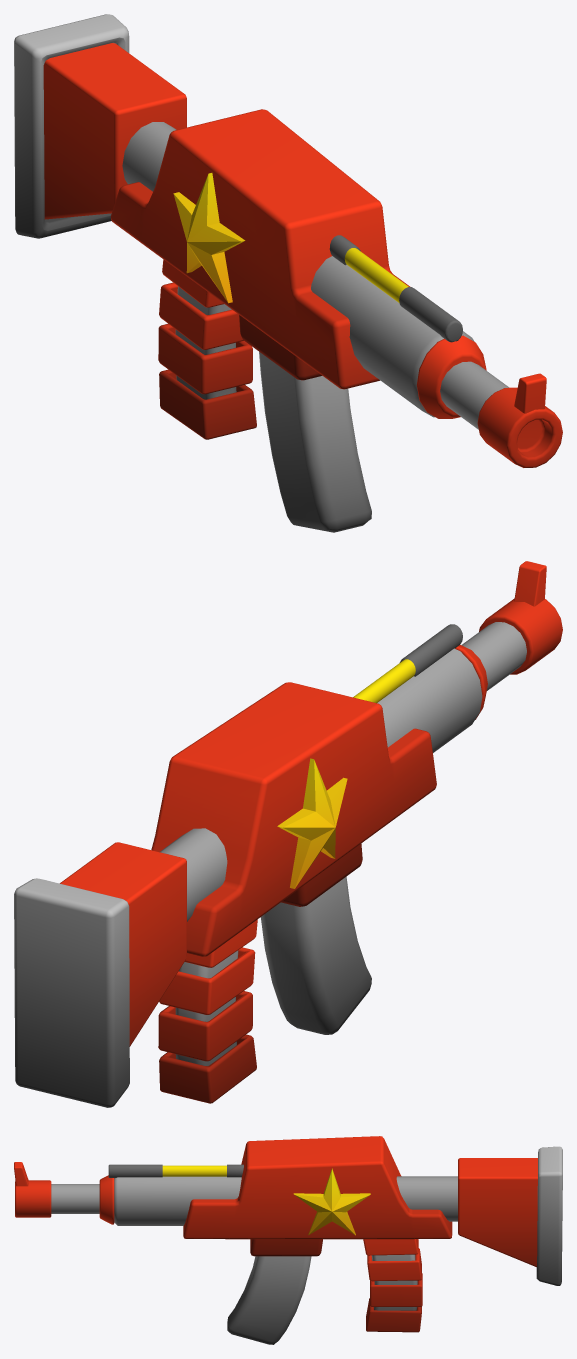
3 renders of one model, top to bottom at view 1: azimuth 30°, elevation 25°; view 2: azimuth 150°, elevation 25°; view 3: azimuth 270°, elevation 25°, orthographic. The views are drawn at different scales.
Parts seen in each view (by area): view 1: AK_74; view 2: AK_74; view 3: AK_74.
Part boxes in pixels (x1=…): AK_74: x1=14, y1=14, x2=562, y2=532; AK_74: x1=14, y1=561, x2=562, y2=1107; AK_74: x1=14, y1=1136, x2=562, y2=1344.
Bounding box in the file's own units: 20.44 × 43.61 × 113.
Materials: 1 (1 with a texture image).
